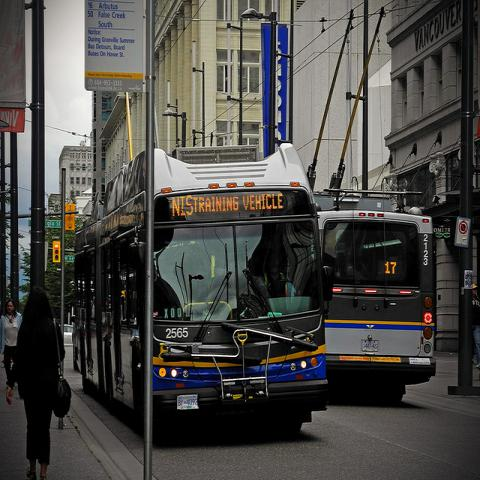bus: (71, 138, 346, 432), (320, 210, 433, 404)
car: (63, 324, 72, 348)
